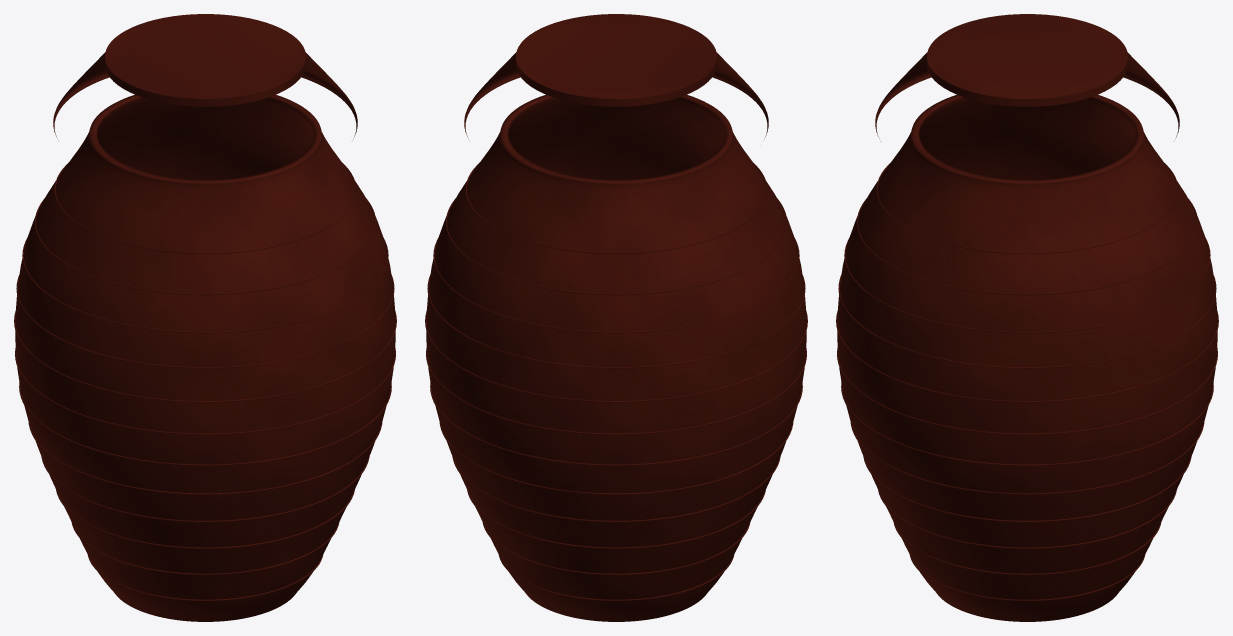
Rendered from bcm-1111.glb.
The picture shows the model from 3 angles, left to right: view 1: azimuth 30°, elevation 25°; view 2: azimuth 150°, elevation 25°; view 3: azimuth 270°, elevation 25°; orthographic projection.
Visible parts, largest first — view 1: Continuous hollow vessel with formed lip; view 2: Continuous hollow vessel with formed lip; view 3: Continuous hollow vessel with formed lip.
Part boxes in pixels (x1=…): Continuous hollow vessel with formed lip: x1=14, y1=14, x2=396, y2=621; Continuous hollow vessel with formed lip: x1=425, y1=14, x2=807, y2=621; Continuous hollow vessel with formed lip: x1=836, y1=14, x2=1218, y2=621.
Bounding box in the file's own units: 0.8903 × 1.35 × 0.8903.
